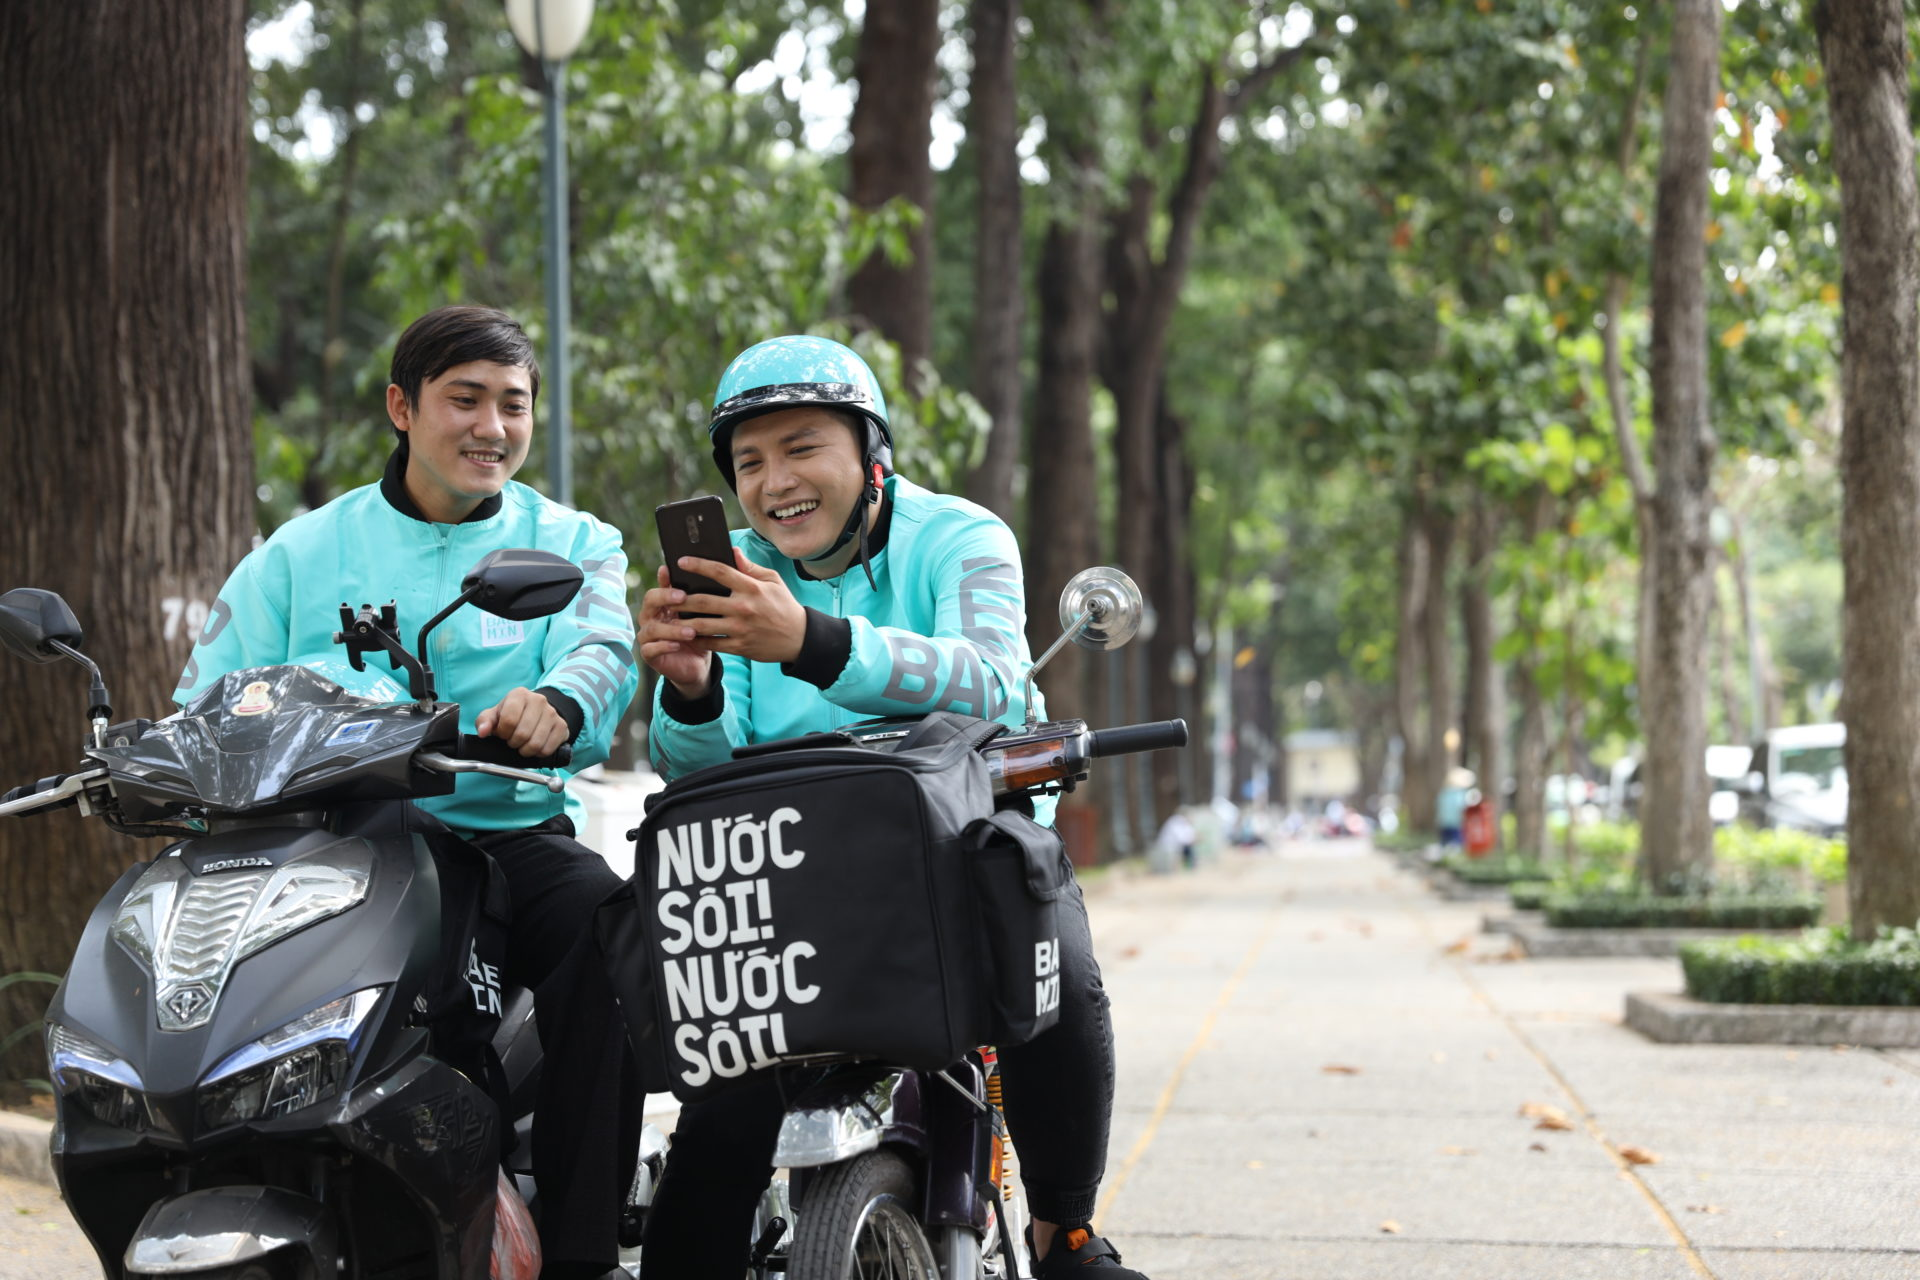dieu khien xe may: (51, 314, 574, 1261)
su dung dien thoai: (644, 337, 890, 707)
